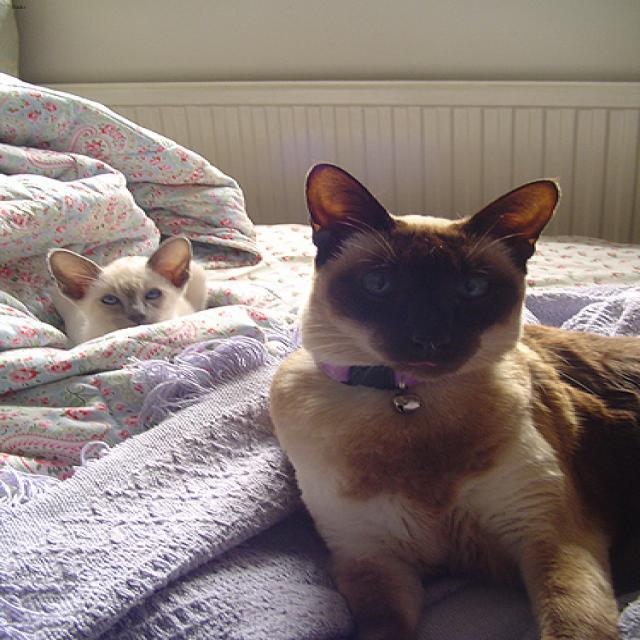Siamese: (301, 158, 567, 381), (45, 230, 204, 334)
